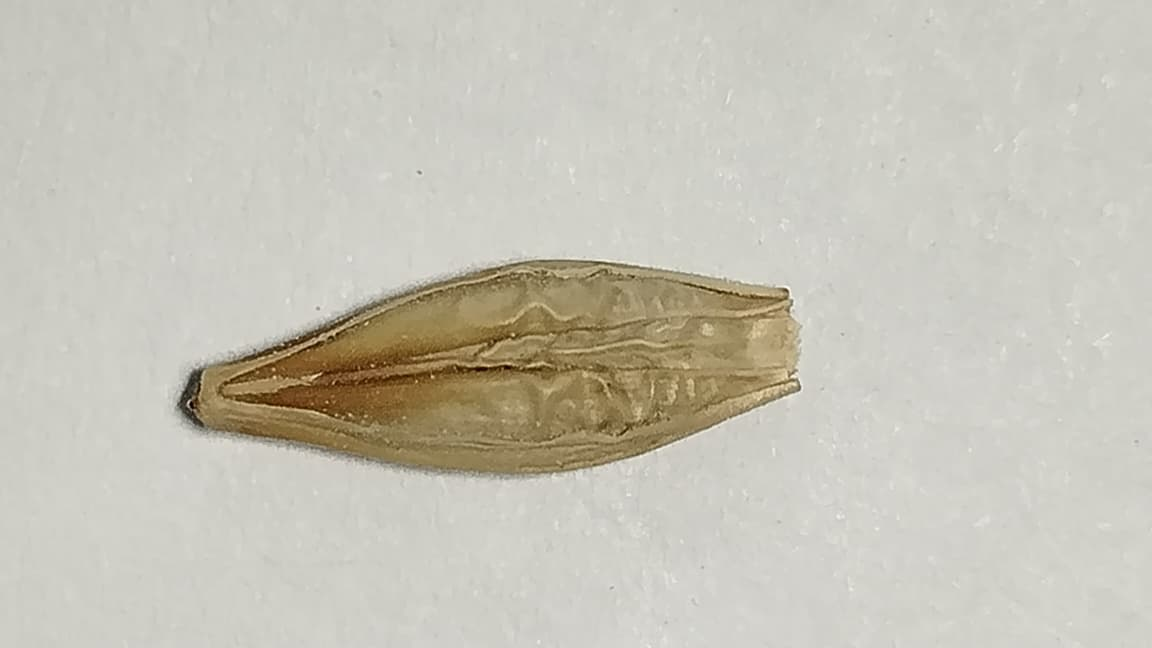healthy-70-60: (187, 260, 799, 473)
shriveledseed: (486, 268, 700, 451)
